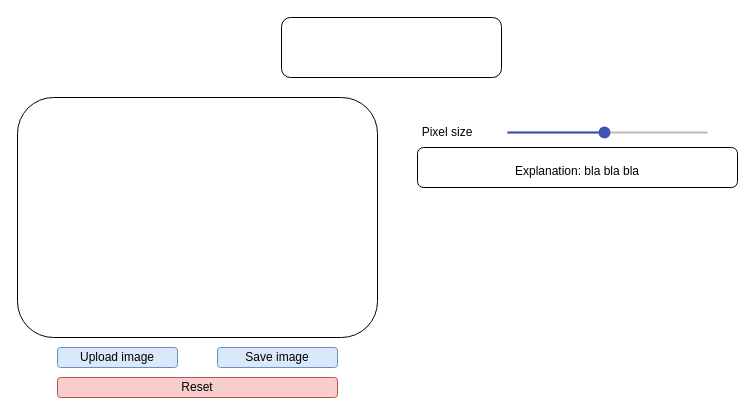
This 755x415 diagram has some shape labels left out. Each missing label, with the centre of its shape:
Pixelartgenerator: the point at 391,47
Preview: the point at 197,217
